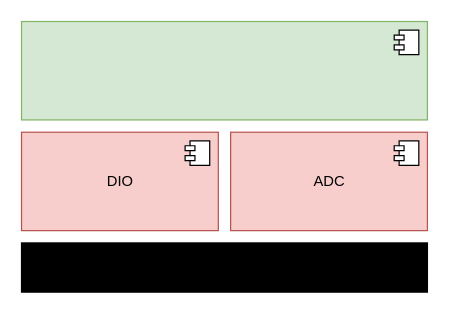
Image size: 449x314. Some labels were removed from this diagram. The box of each missing label's shape, as (x1, y1, x2, y2) in pixels:
IO HW Abstraction: (20, 20, 427, 120)
Microcontroller: (20, 242, 427, 292)
